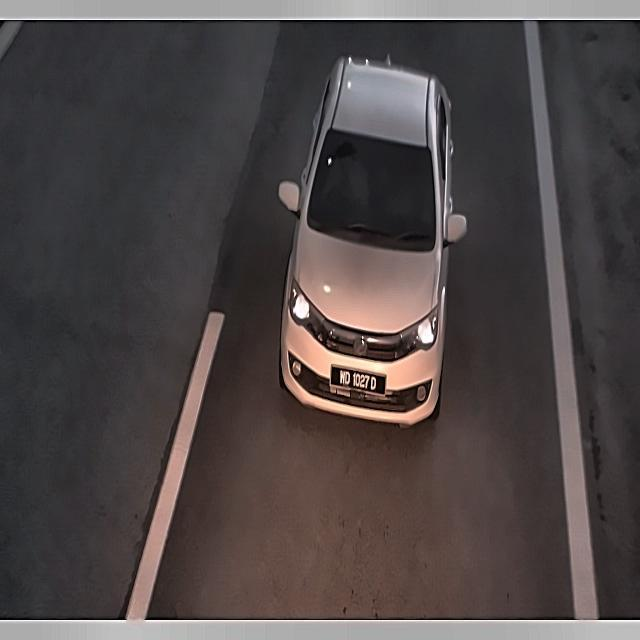car: (329, 360, 389, 401)
